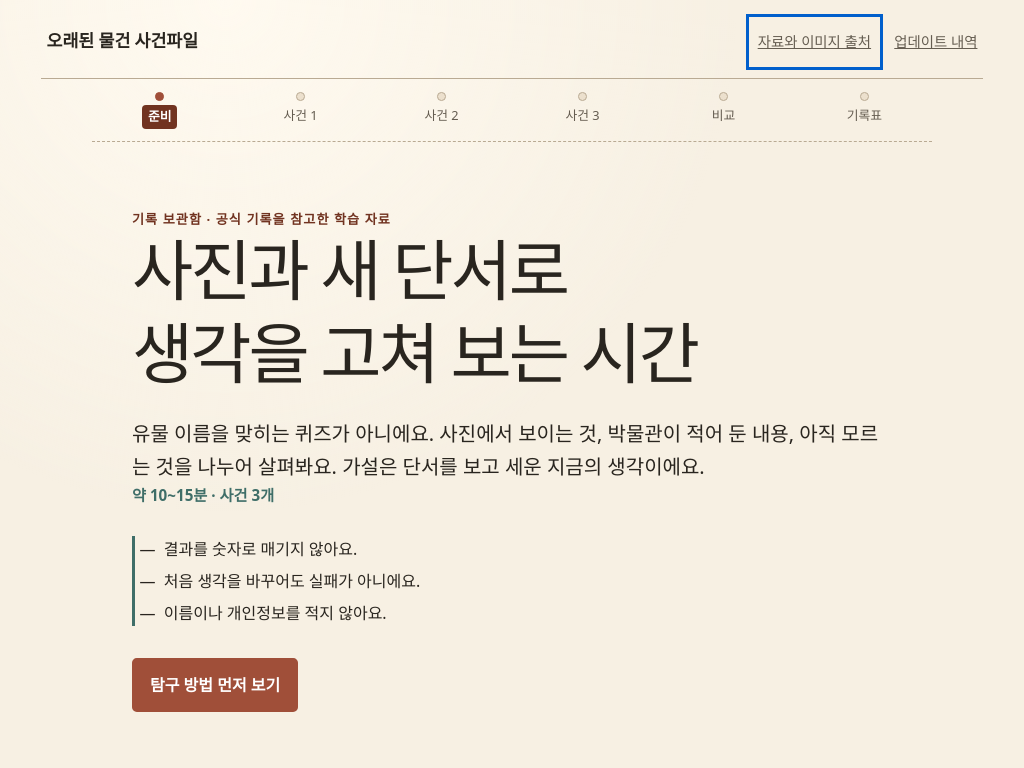
Test: 학생용 화면 › 출처 대화상자는 초점을 가두고 Escape 뒤에 열었던 버튼으로 돌려준다
Click the button "자료와 이미지 출처" at (814, 42), box [752,20,877,64]
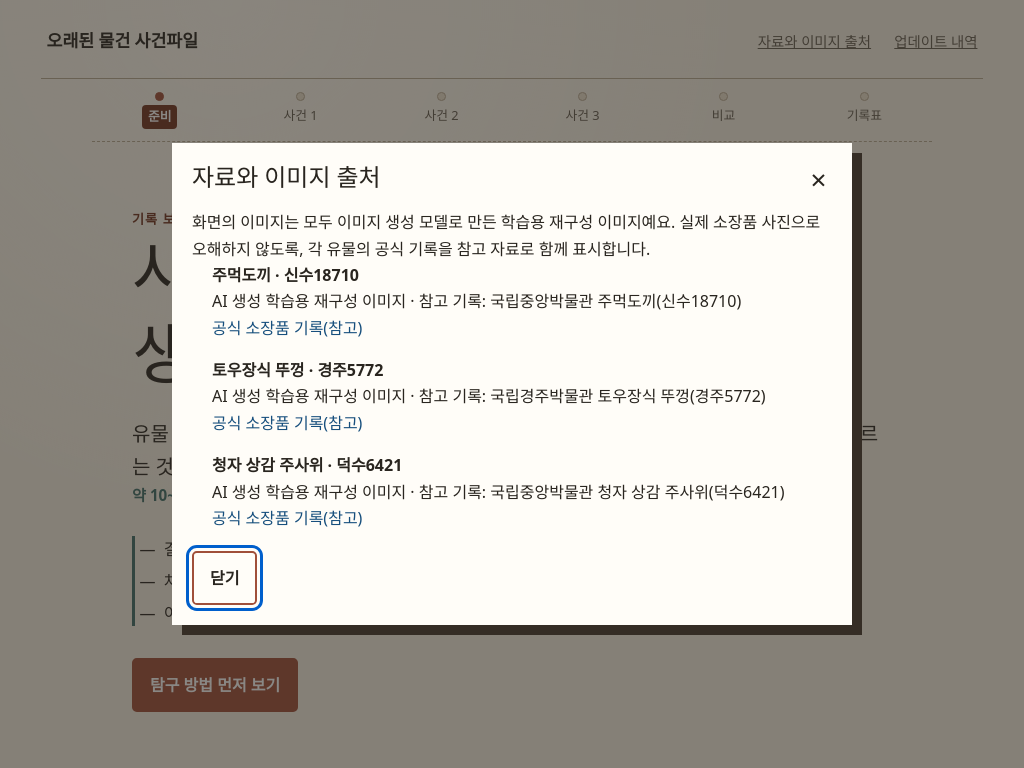
Expected: the text "이미지 생성 모델로 만든 학습용 재구성 이미지" is shown, [192,211,820,260]
Expected: the number of links "공식 소장품 기록(참고)" is 3, [212,317,362,339]; [212,412,362,434]; [212,507,362,529]
Press Tab in the dialog "자료와 이미지 출처", box [172,143,852,625]
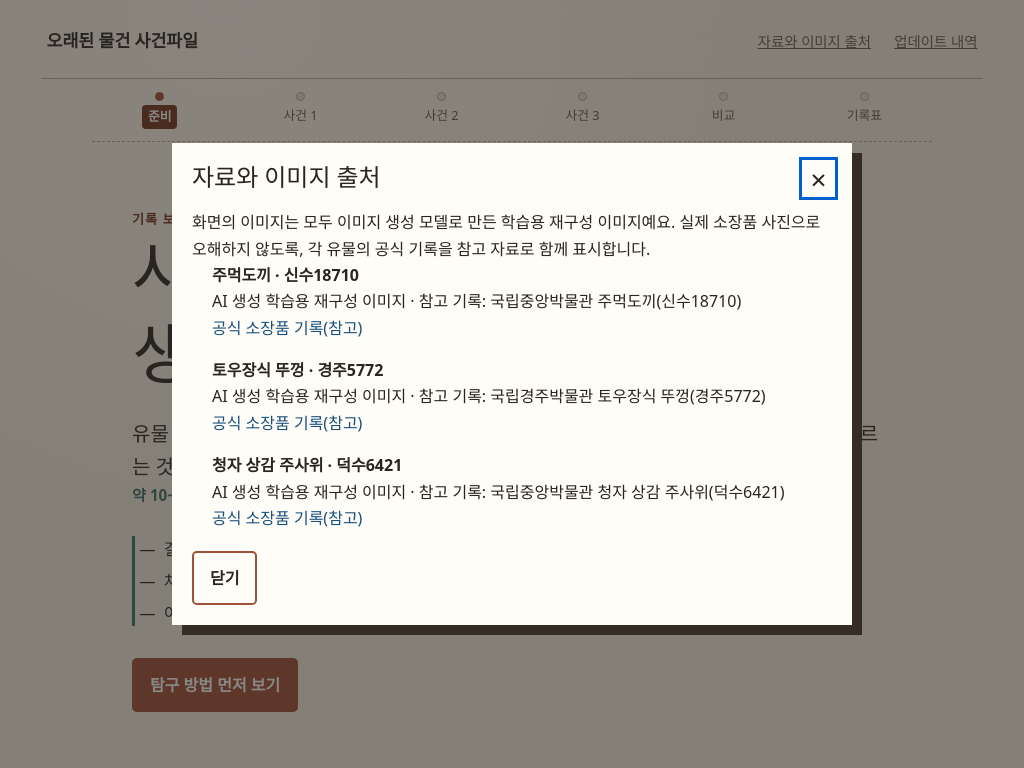
Press Tab in the dialog "자료와 이미지 출처", box [172,143,852,625]
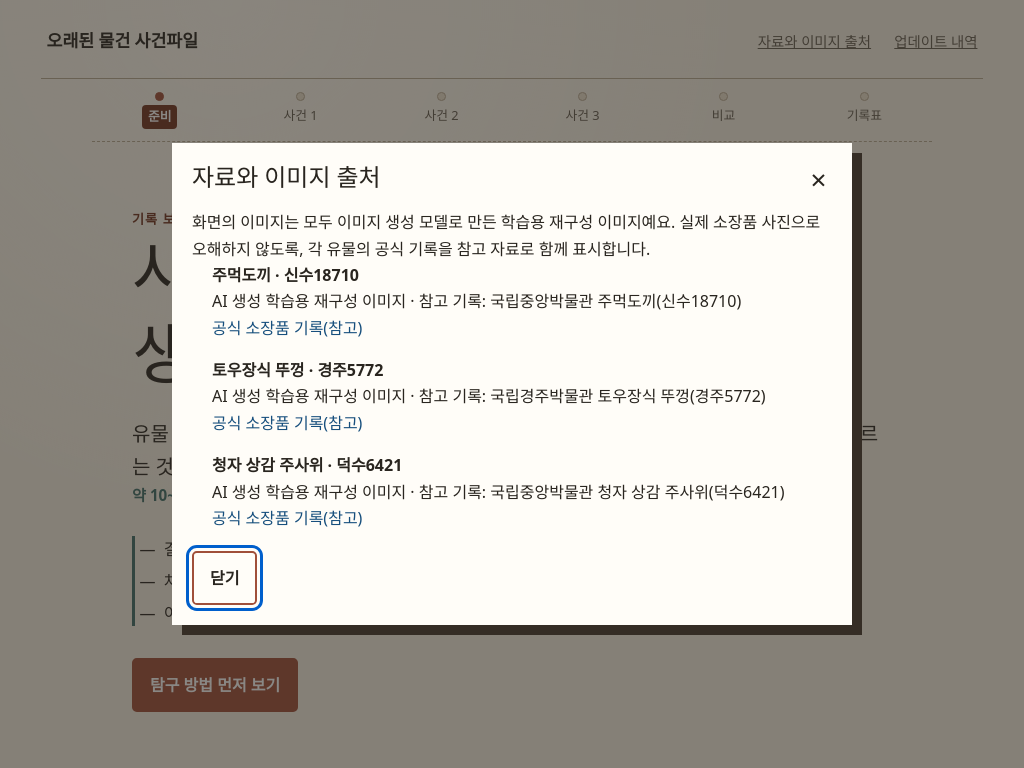
Press Escape in the dialog "자료와 이미지 출처", box [172,143,852,625]
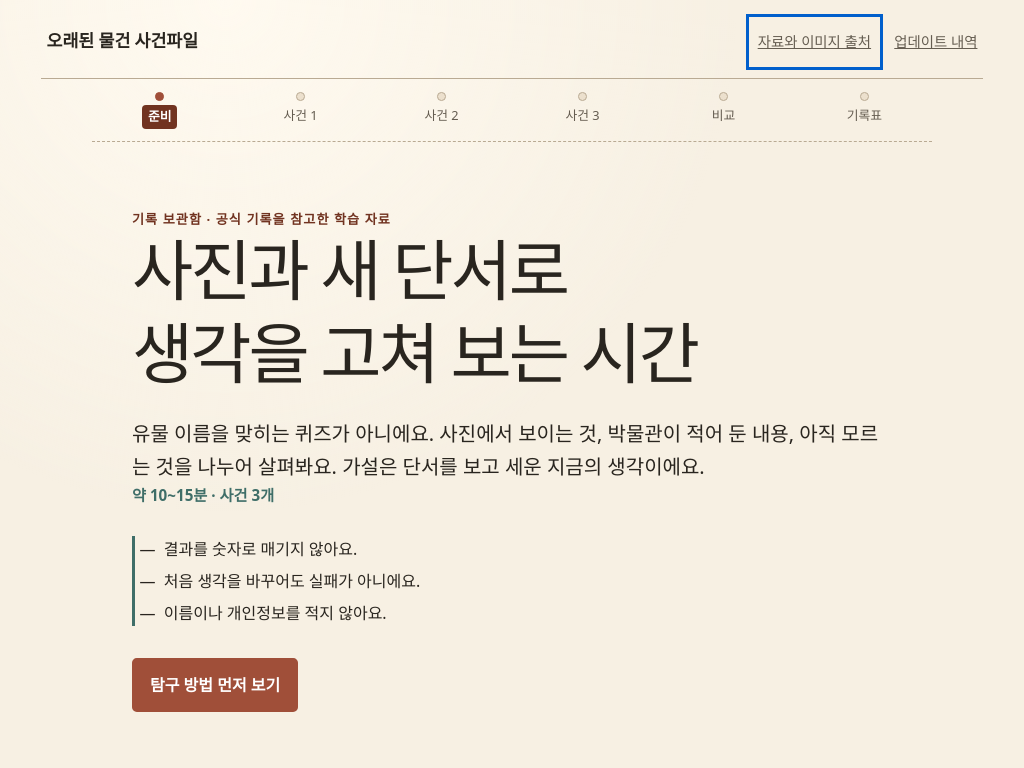
Click the button "업데이트 내역" at (936, 42), box [889,20,983,64]
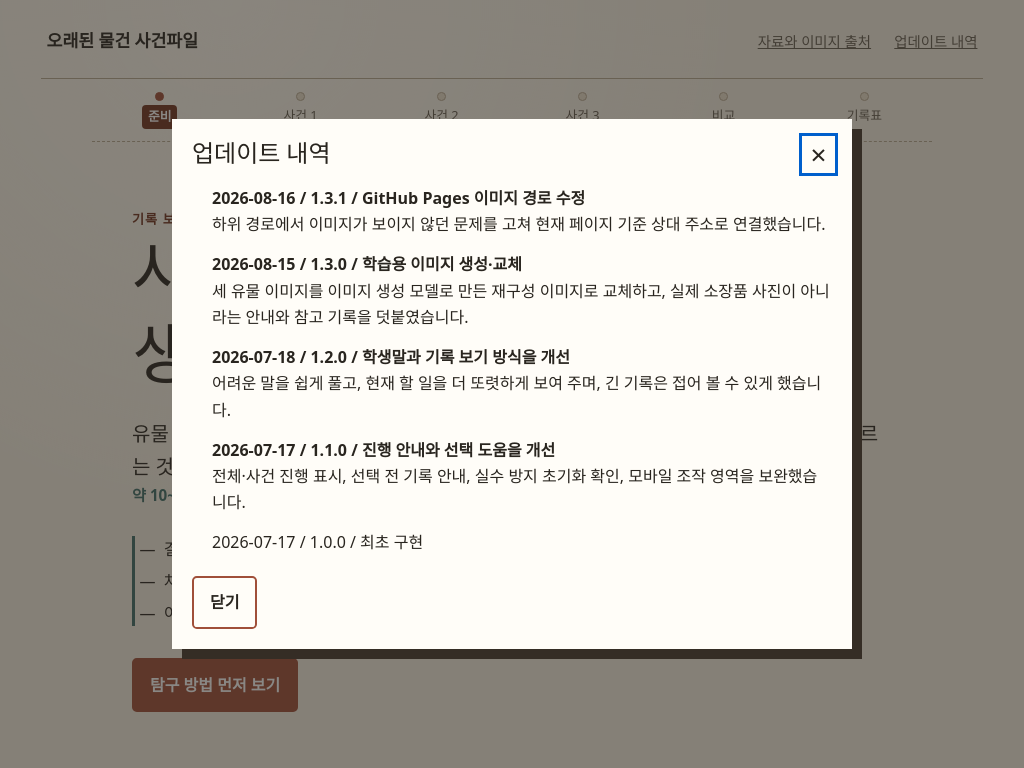
Expected: the text "2026-08-16 / 1.3.1 / GitHub Pages 이미지 경로 수정" is shown, [212,187,585,209]
Expected: the text "2026-08-15 / 1.3.0 / 학습용 이미지 생성·교체" is shown, [212,253,522,275]
Expected: the text "2026-07-17 / 1.1.0 / 진행 안내와 선택 도움을 개선" is shown, [212,439,555,461]
